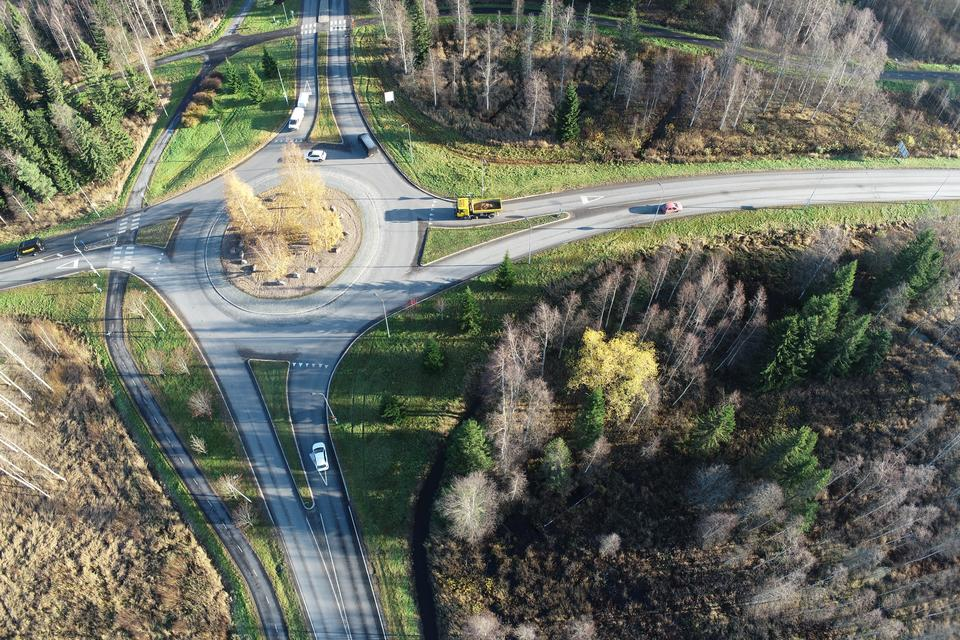intersection: (103, 200, 153, 301), (281, 12, 386, 48)
roundabout: (164, 92, 506, 397)
